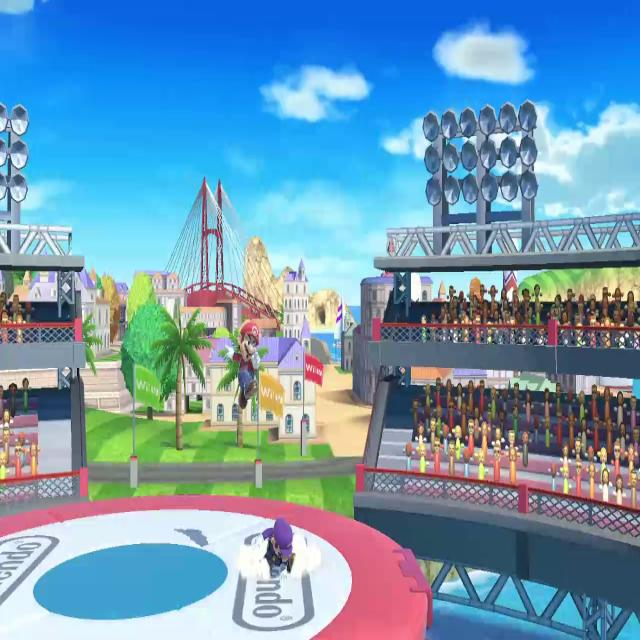Mario: (250, 512, 306, 584)
Mario-mad: (225, 313, 264, 415)
